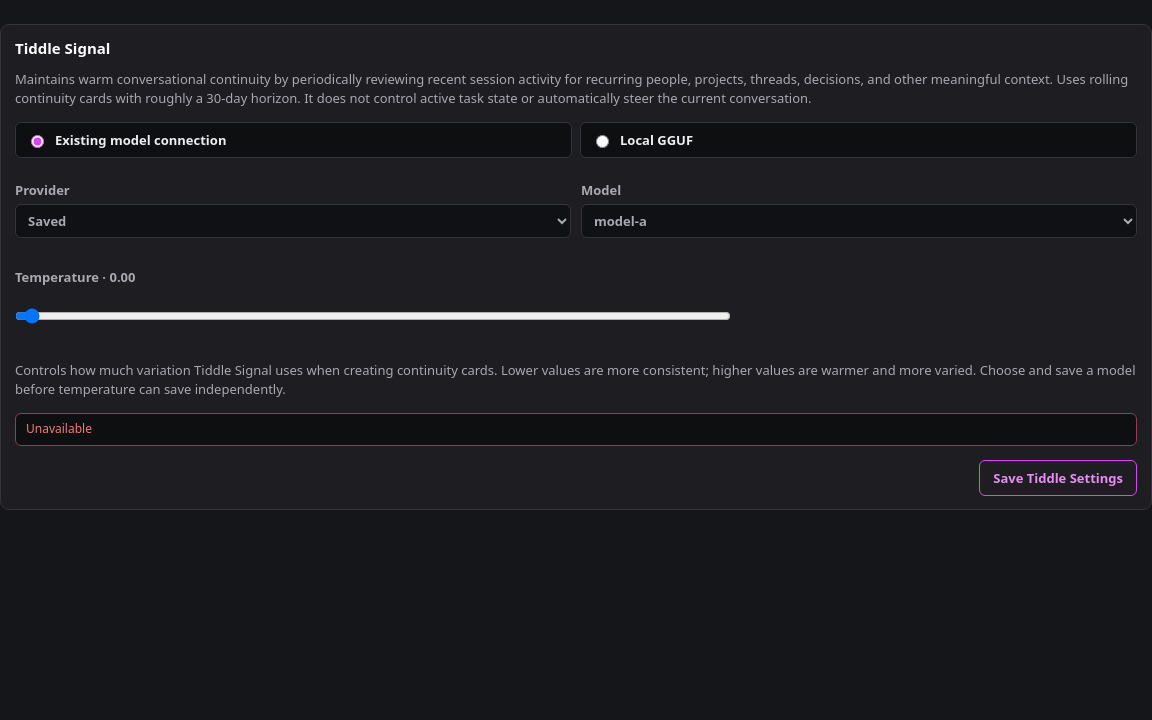
does not autosave an initial model draft with no accepted selection
This screenshot has width=1152, height=720.
Press the mouse on the slider at [373, 316], box [15, 299, 731, 333]
Set the slider to "0.3" at [443, 316], box [15, 299, 731, 333]
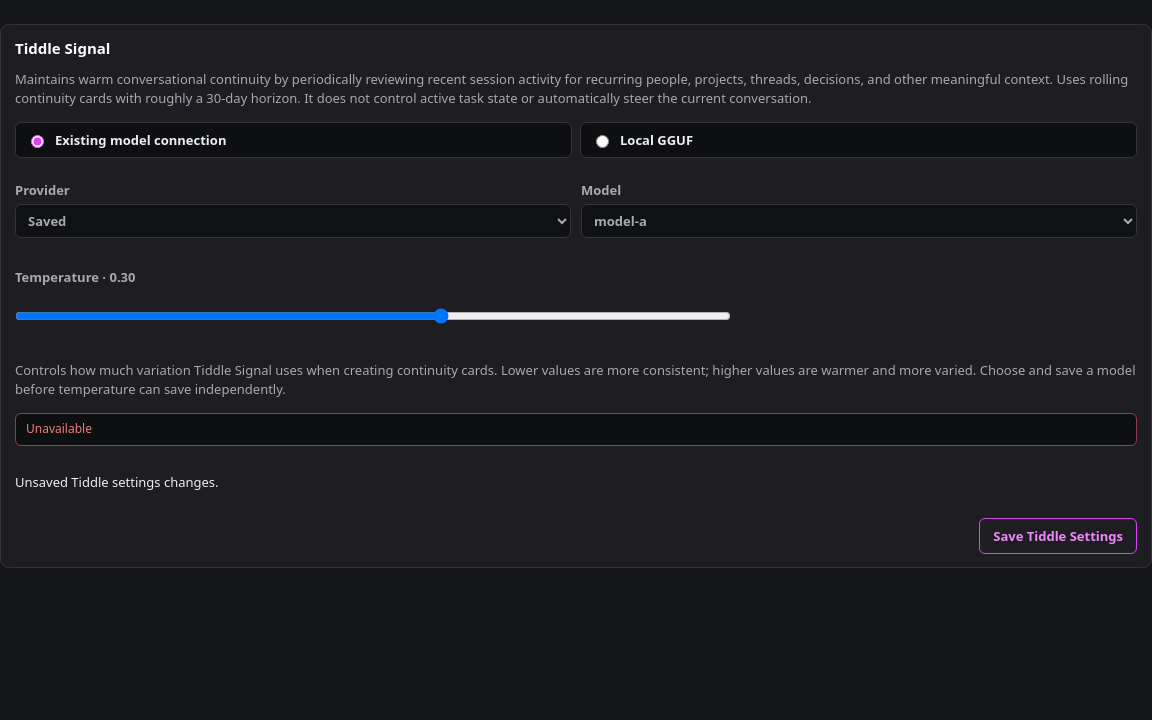
Click the button "Save Tiddle Settings".
click(1058, 536)  # box [979, 518, 1137, 554]
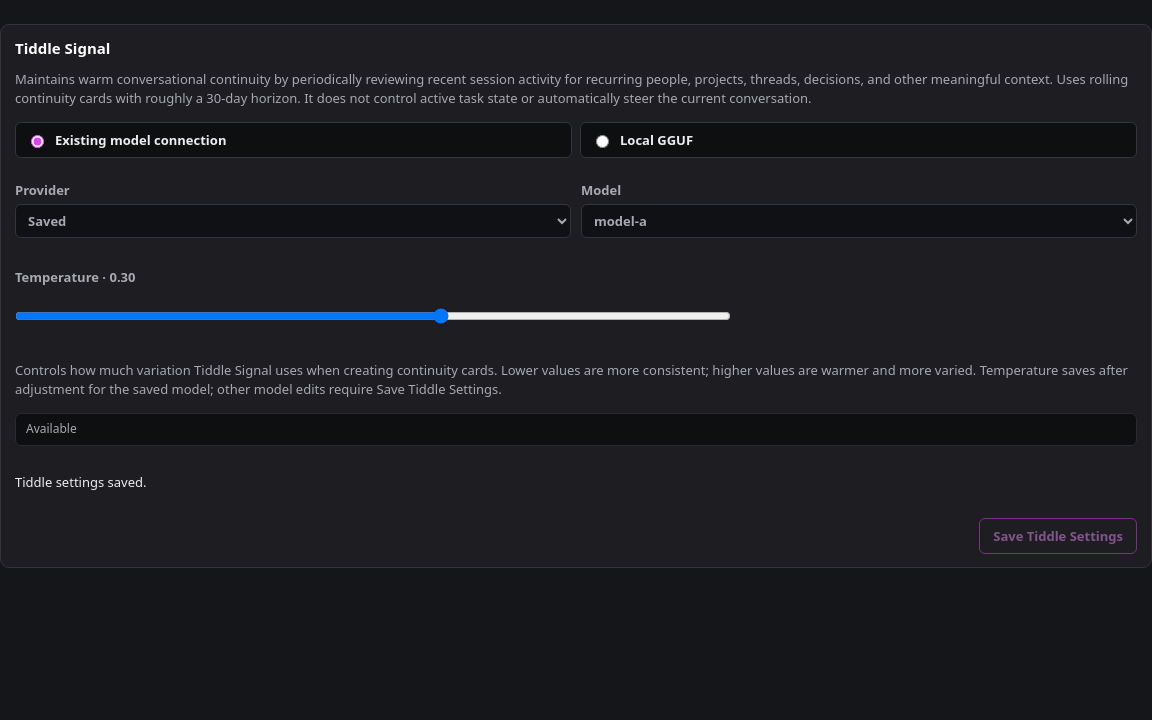
Result: the text "Tiddle settings saved." is shown at [15, 472, 146, 490]
